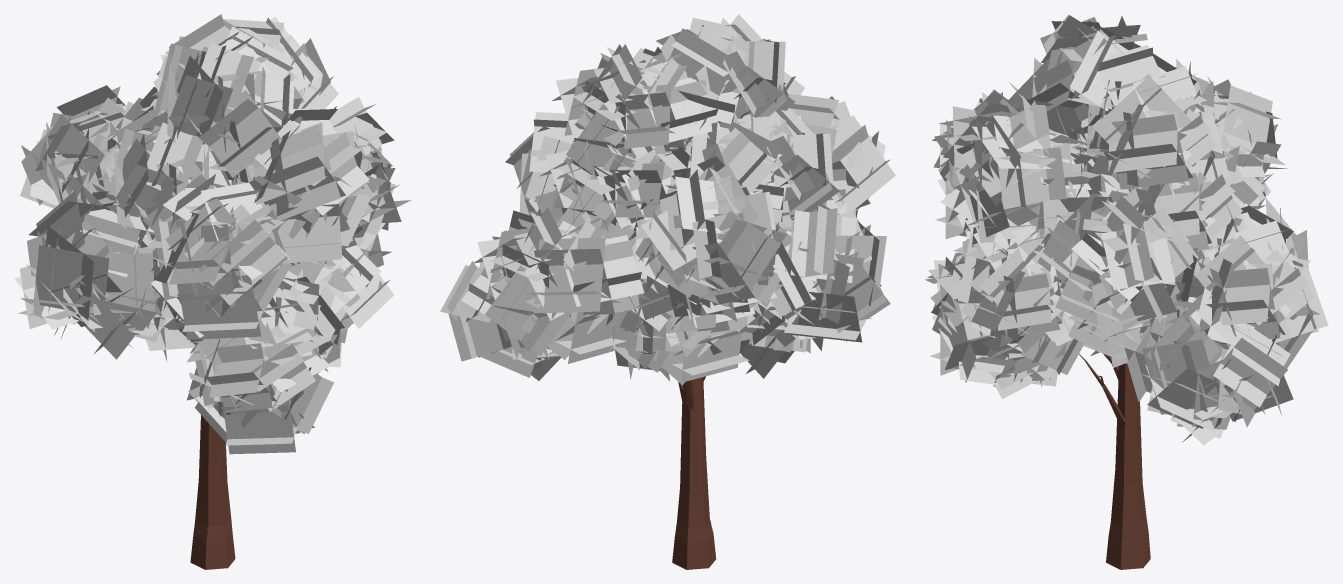
Rendered from tree.glb.
3 views of the same model, side by side, from view 1: azimuth 30°, elevation 25°; view 2: azimuth 150°, elevation 25°; view 3: azimuth 270°, elevation 25° (orthographic). The views are drawn at different scales.
Parts seen in each view (by area): view 1: leaves.004, tree; view 2: leaves.004, tree; view 3: leaves.004, tree.
Boxes of the visible parts, x1,y1,x2,y2 form: leaves.004: (14,14,411,454); tree: (54,125,381,569); leaves.004: (440,14,895,385); tree: (601,99,861,569); leaves.004: (925,14,1328,445); tree: (1079,92,1287,569).
Size of the model in its own units: 23.22 by 30.69 by 20.8.
